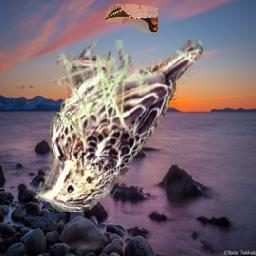Sparrow: (33, 40, 203, 212)
Swallow: (106, 5, 159, 34)
